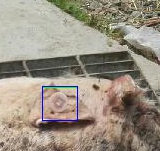text: (42, 87, 77, 120)
